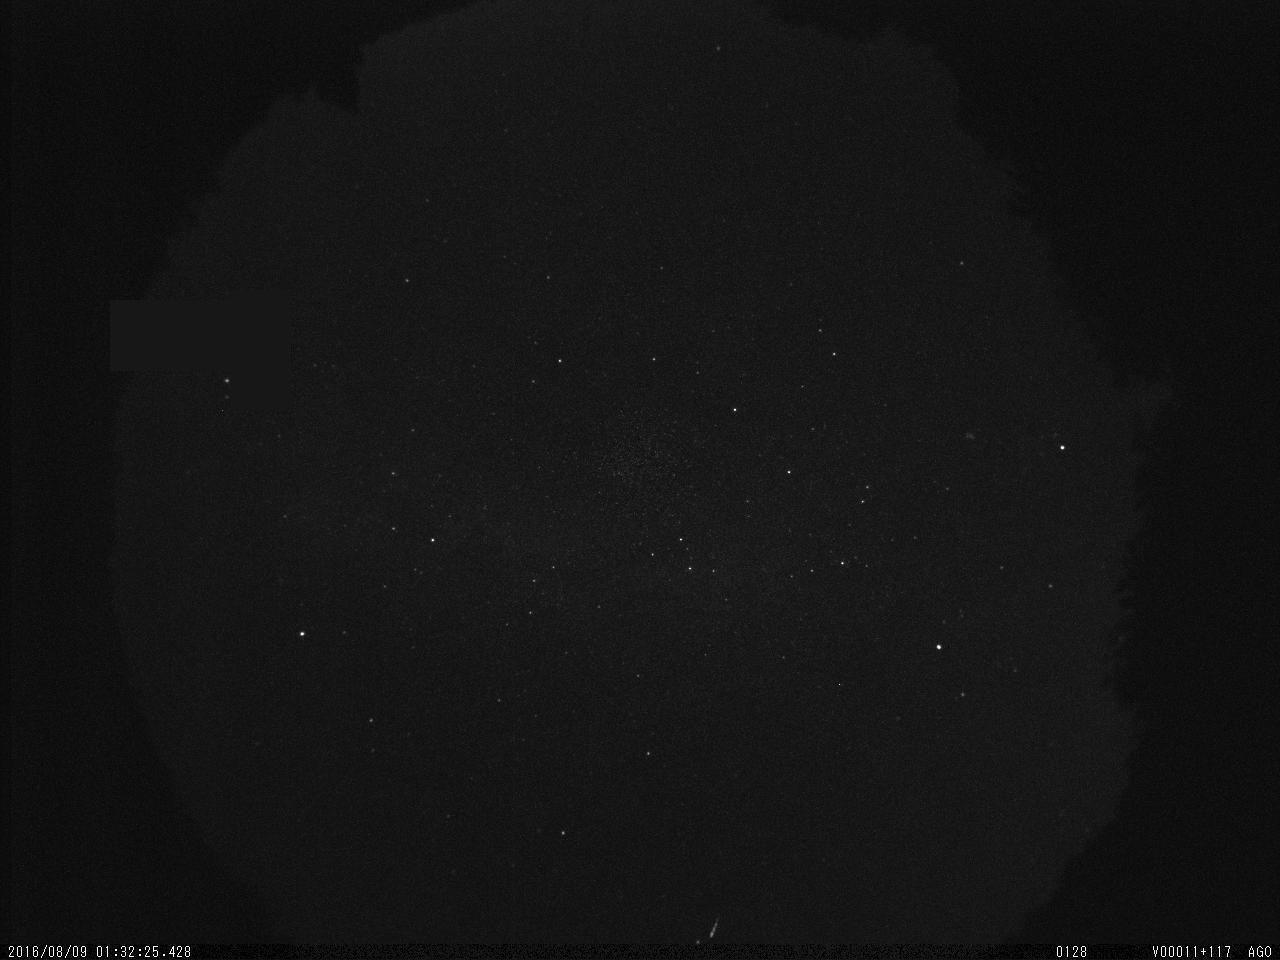Meteor: (704, 912, 721, 946)
